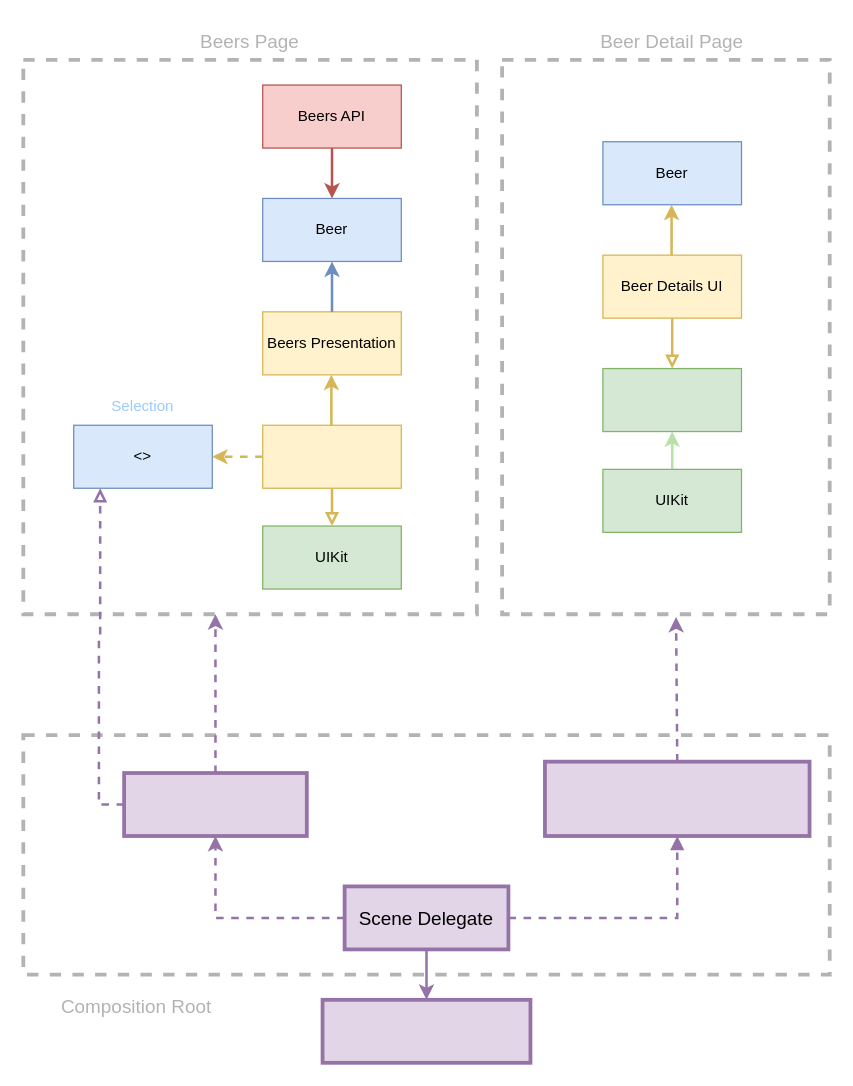
The diagram is 853 pixels wide and 1086 high, and some of its shapes have lost their labels. Each missing label, with the centre of its shape:
"BeerDetailsHostingController" goes at point (676, 798).
"Beers UI" goes at point (331, 456).
"BeersUIComposer" goes at point (215, 803).
"SwiftUI" goes at point (672, 399).
"UINavigationController" goes at point (426, 1030).
